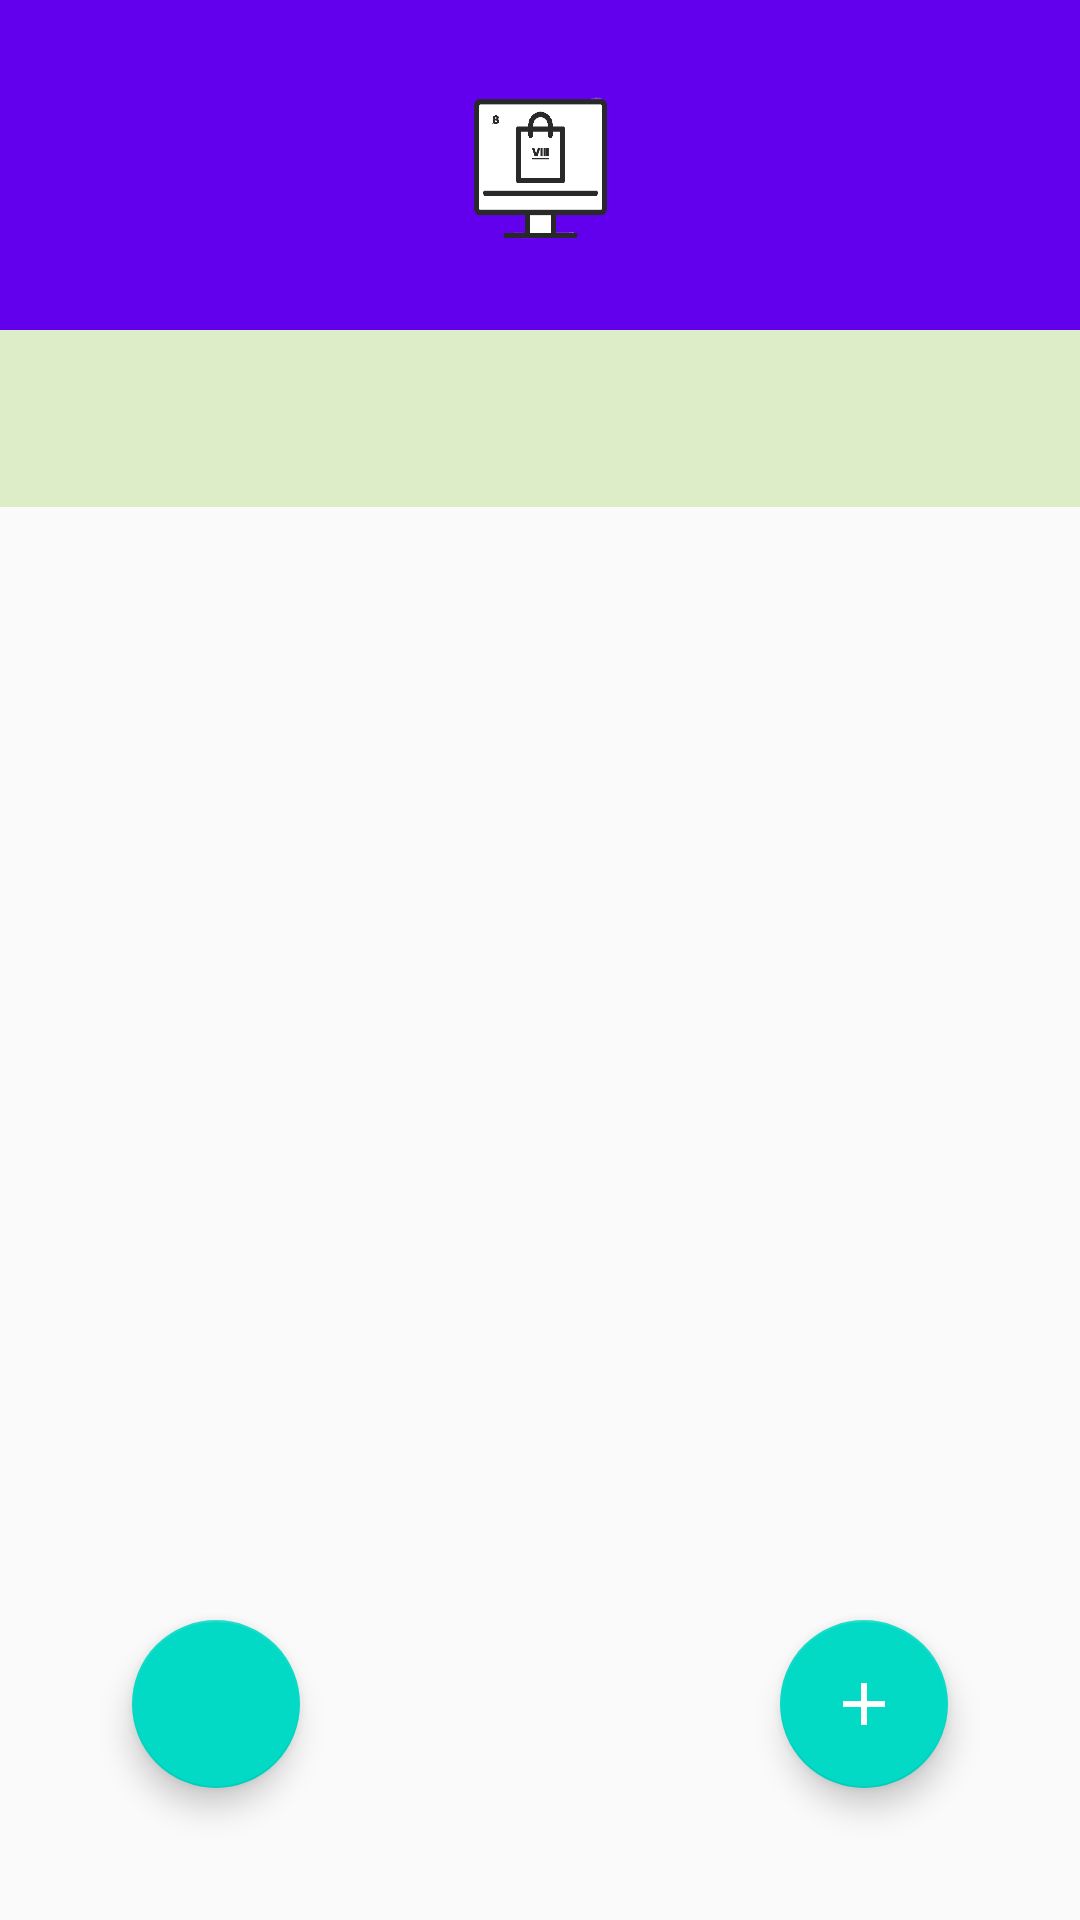

Point at icon controls on the screen. Image size 1080x1920, points as [x,y].
add: [864,1704]
